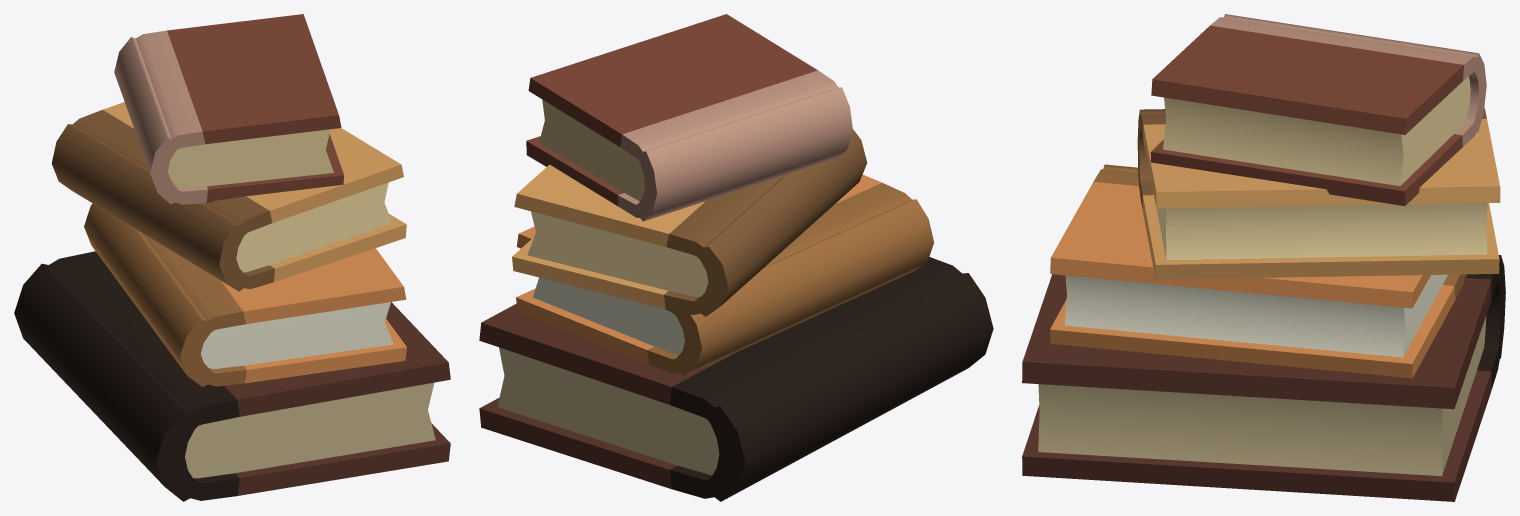
File: Book_K.fbx
3 renders of one model, left to right at view 1: azimuth 30°, elevation 25°; view 2: azimuth 150°, elevation 25°; view 3: azimuth 270°, elevation 25°, orthographic. The views are drawn at different scales.
Parts seen in each view (by area): view 1: Book_K; view 2: Book_K; view 3: Book_K.
Part boxes in pixels (box(x1,y1,x2,y2)): Book_K: box(14, 14, 450, 501); Book_K: box(479, 14, 993, 501); Book_K: box(1022, 14, 1505, 501).
Bounding box in the file's own units: 39.21 × 37.59 × 44.66.
